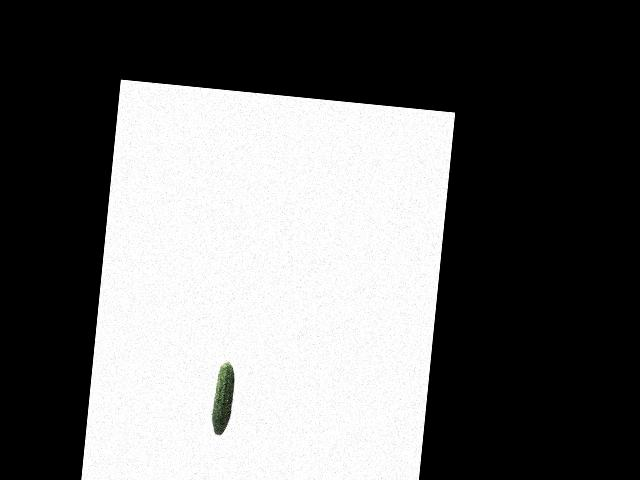cucumber: (210, 361, 236, 436)
